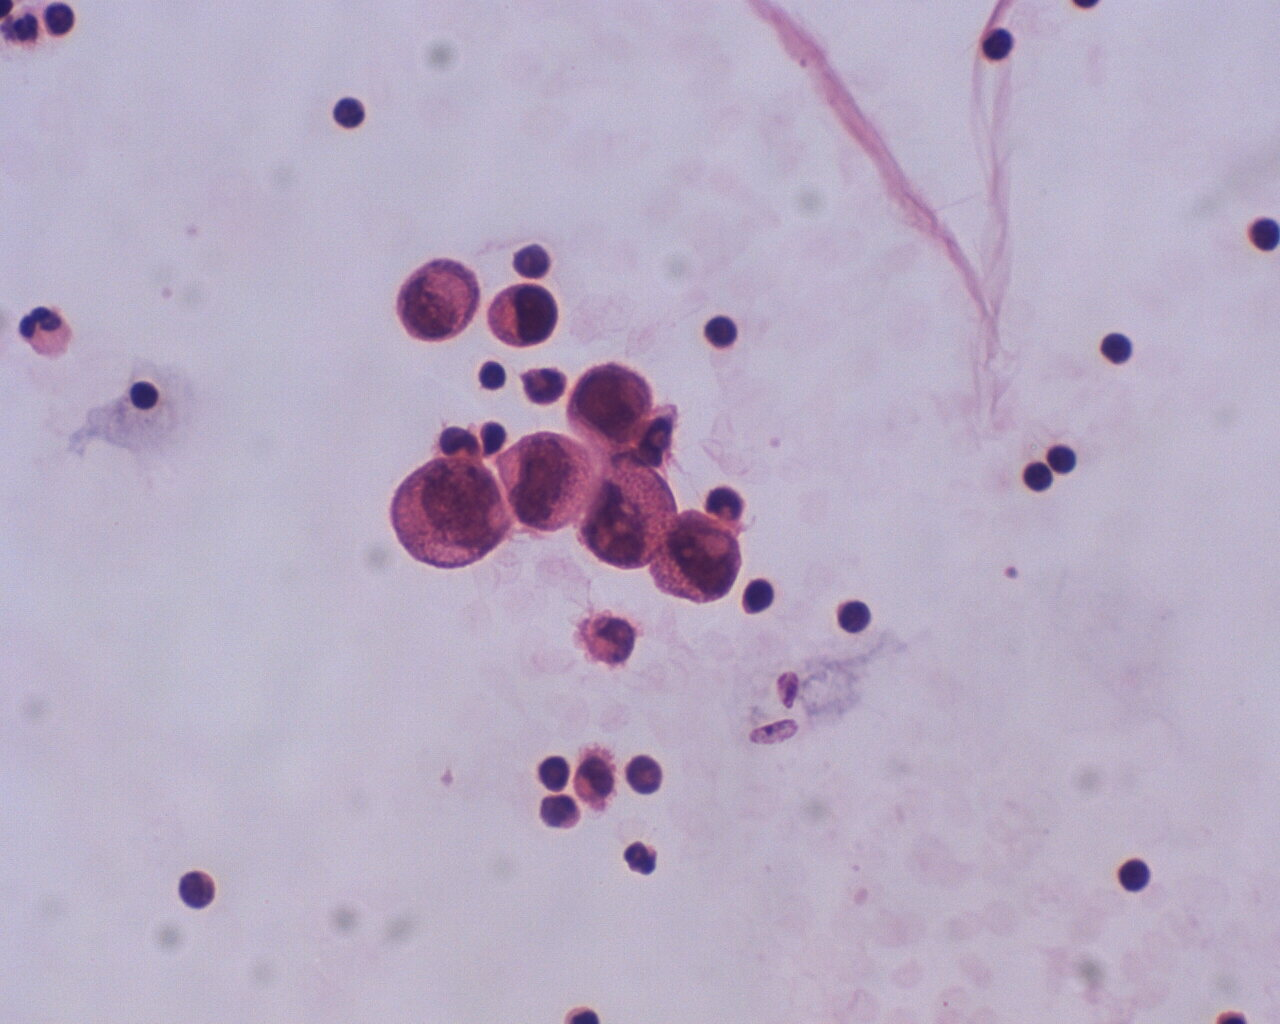ab: (386, 453, 510, 571), (577, 456, 677, 567), (501, 427, 594, 536), (650, 497, 740, 604), (561, 354, 651, 450), (390, 250, 481, 341), (485, 274, 561, 351)
normal: (11, 300, 78, 365), (172, 866, 227, 912), (1111, 851, 1157, 899), (977, 24, 1020, 68), (534, 752, 579, 794), (833, 591, 872, 637), (1020, 455, 1060, 501), (1098, 327, 1139, 370), (121, 375, 163, 416), (703, 310, 742, 354), (741, 575, 778, 616), (1244, 217, 1280, 261), (473, 355, 512, 393), (1048, 442, 1087, 476), (332, 93, 366, 132)
